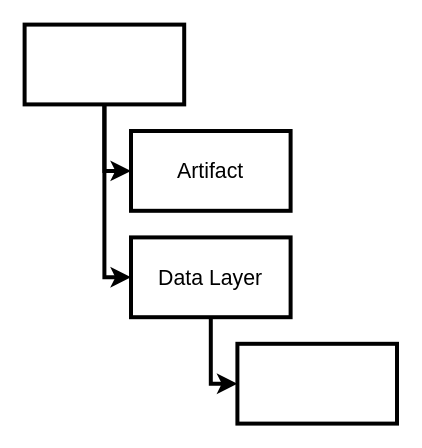
The diagram is 422 pixels wide and 448 high, and some of its shapes have lost their labels. Each missing label, with the centre of its shape:
Dataset: [104,64]
Feature: [316,383]
